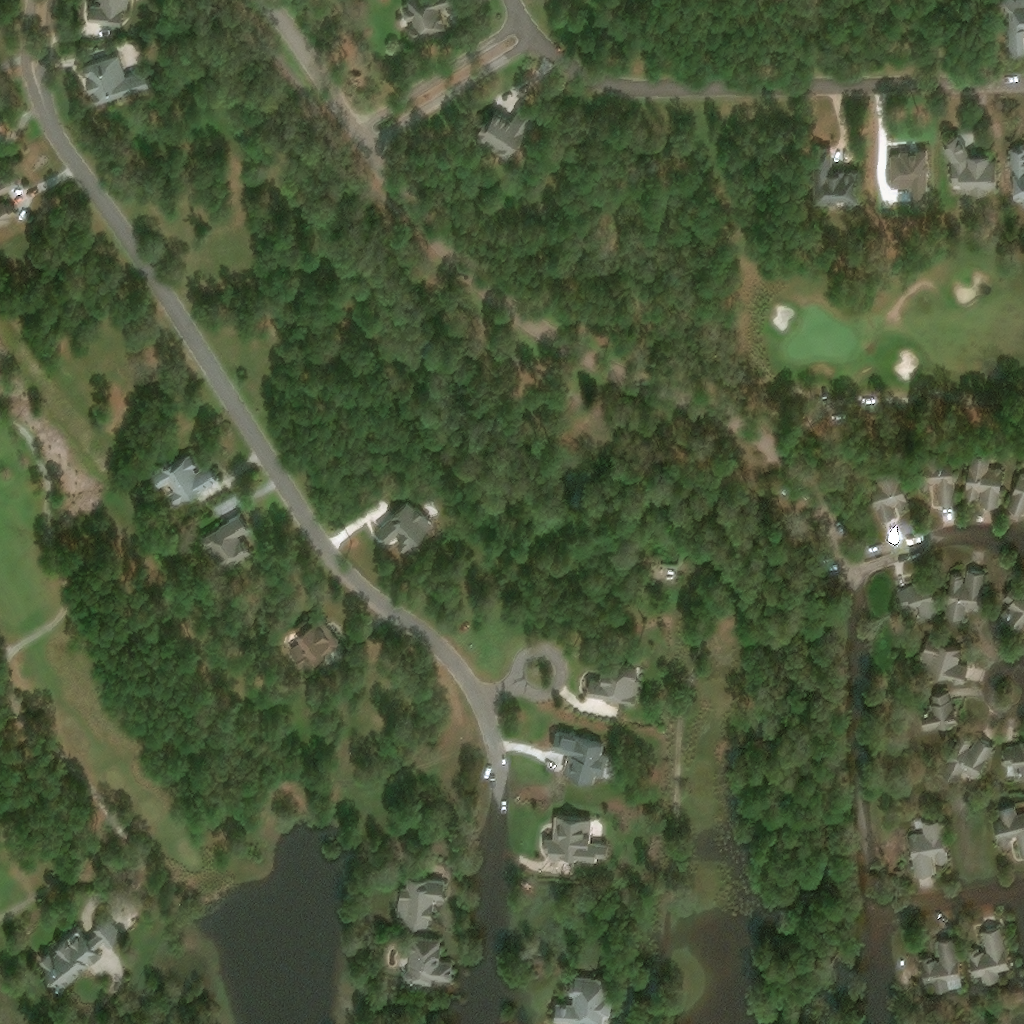no_damage: (36, 917, 123, 987), (78, 52, 149, 105), (147, 454, 216, 505), (196, 511, 250, 568), (939, 135, 992, 193), (548, 730, 605, 782), (550, 976, 613, 1023), (372, 501, 431, 551), (472, 107, 533, 155), (811, 146, 858, 206), (288, 613, 339, 663), (546, 816, 604, 859), (401, 0, 469, 36), (940, 735, 992, 781), (965, 928, 1008, 982), (584, 662, 638, 704), (397, 879, 445, 926), (922, 637, 970, 683), (909, 820, 946, 878), (961, 454, 1002, 506), (408, 938, 451, 986), (888, 151, 929, 201), (921, 938, 958, 992), (942, 571, 983, 619), (917, 454, 955, 505), (870, 471, 906, 521), (990, 807, 1022, 858), (896, 580, 940, 615), (919, 692, 957, 728), (998, 0, 1022, 53), (1003, 585, 1022, 628), (1008, 146, 1022, 200), (1002, 743, 1022, 779), (1006, 473, 1022, 512), (0, 200, 18, 225), (0, 170, 18, 194)
